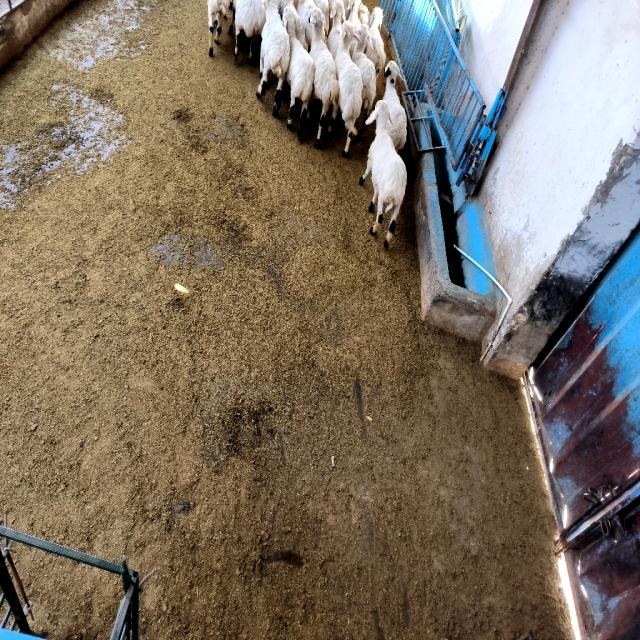sheep: (359, 100, 406, 248), (282, 5, 315, 139), (310, 8, 339, 148), (256, 0, 290, 116), (335, 22, 362, 156), (351, 25, 376, 140), (234, 0, 266, 62), (384, 62, 406, 151), (365, 7, 386, 74), (208, 0, 230, 56), (326, 0, 345, 58), (348, 0, 361, 28)
